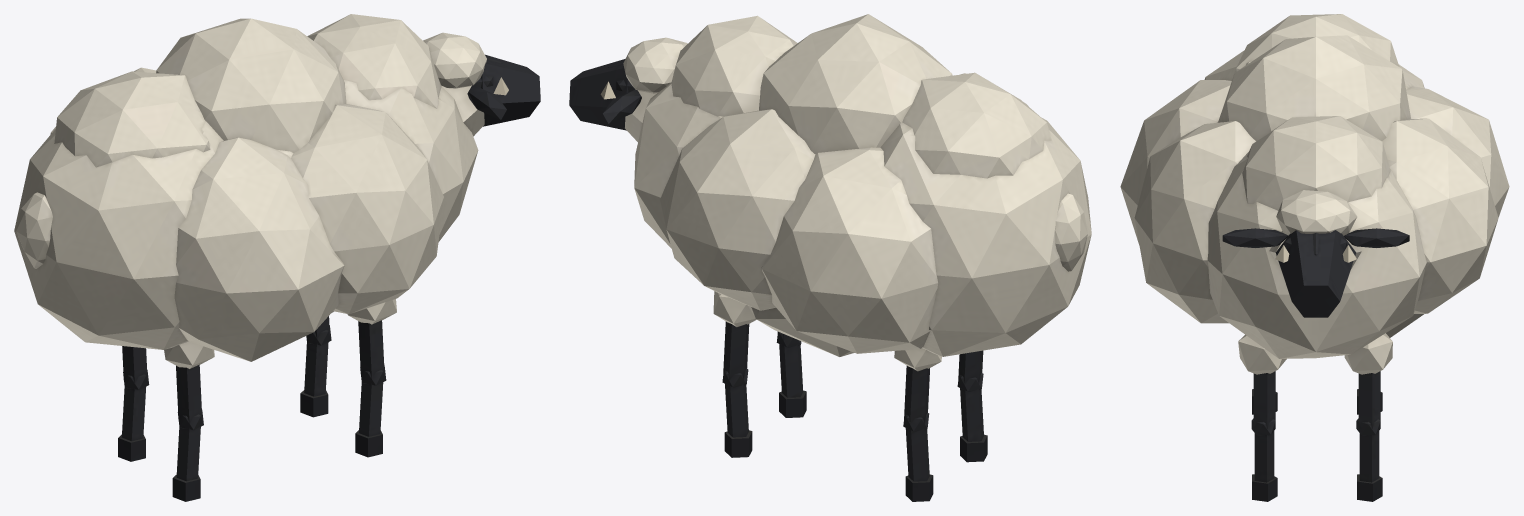
File: far_1_tex.glb
3 renders of one model, left to right at view 1: azimuth 30°, elevation 25°; view 2: azimuth 150°, elevation 25°; view 3: azimuth 270°, elevation 25°, orthographic. The views are drawn at different scales.
Parts seen in each view (by area): view 1: far_1; view 2: far_1; view 3: far_1.
Boxes of the visible parts, box(x1,y1,x2,y2) form: far_1: box(14, 14, 540, 501); far_1: box(569, 14, 1091, 501); far_1: box(1120, 14, 1509, 501).
Size of the model in its own units: 1.4 by 1.14 by 0.9642.
Materials: 4 (3 with a texture image).
